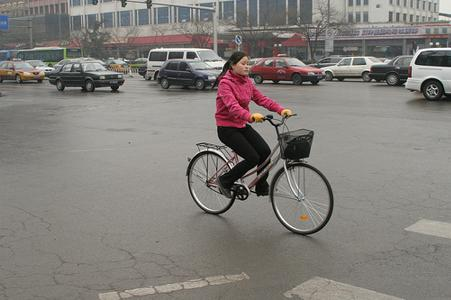person: (214, 50, 293, 199)
